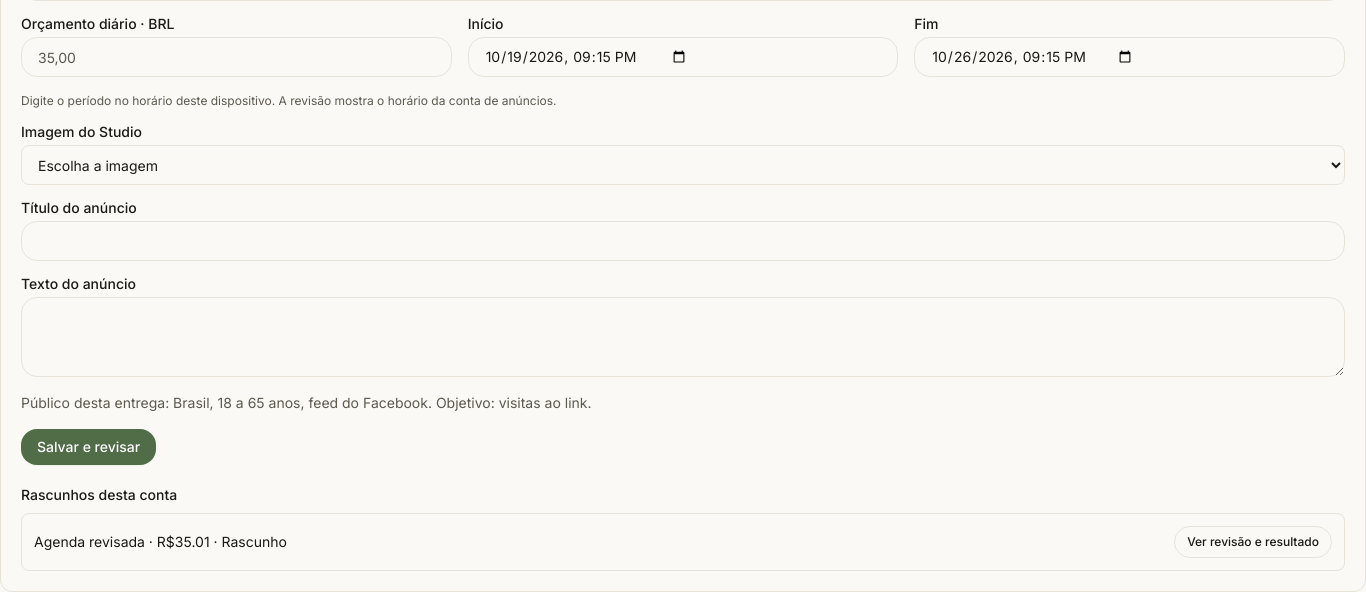
Scenario: anúncios com conexão Meta › aprovação exige consentimento explícito ao orçamento e usa revisão/hash exatos
(page scrolled)
Click the button "Ver revisão e resultado".
click(1253, 542)  # box [1174,526,1332,558]
(page scrolled)
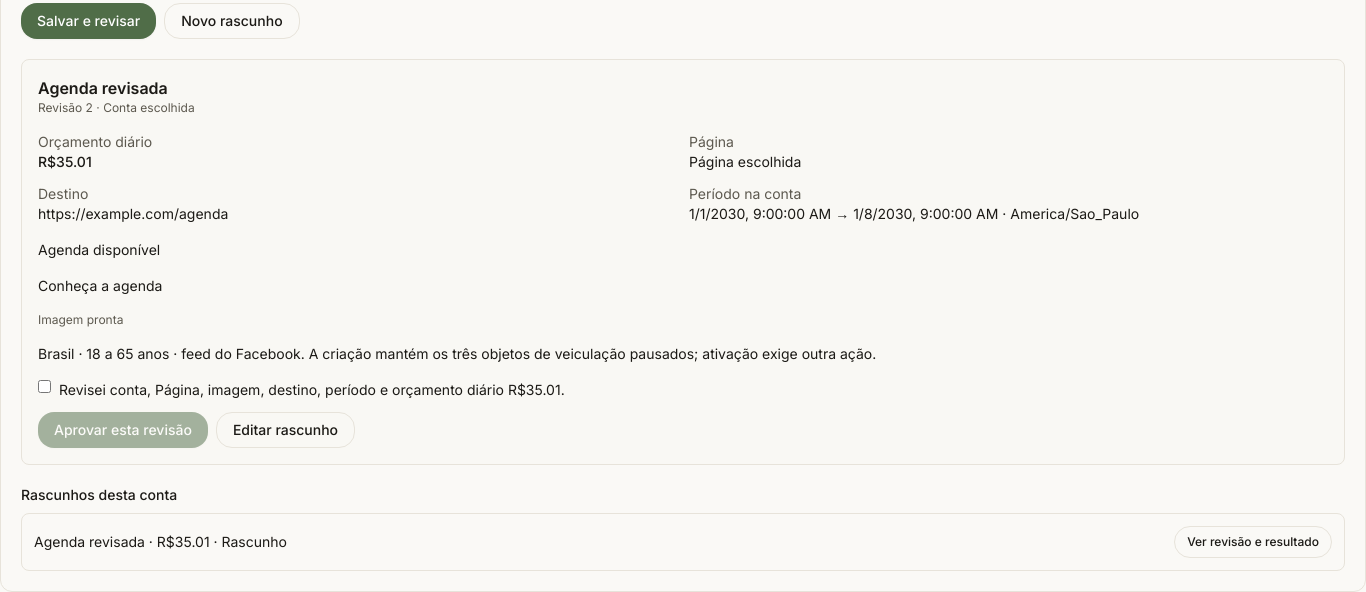
Expected: the button "Aprovar esta revisão" is disabled, [38,412,208,448]
Click the checkbox.
click(44, 386)  # box [38,380,51,393]
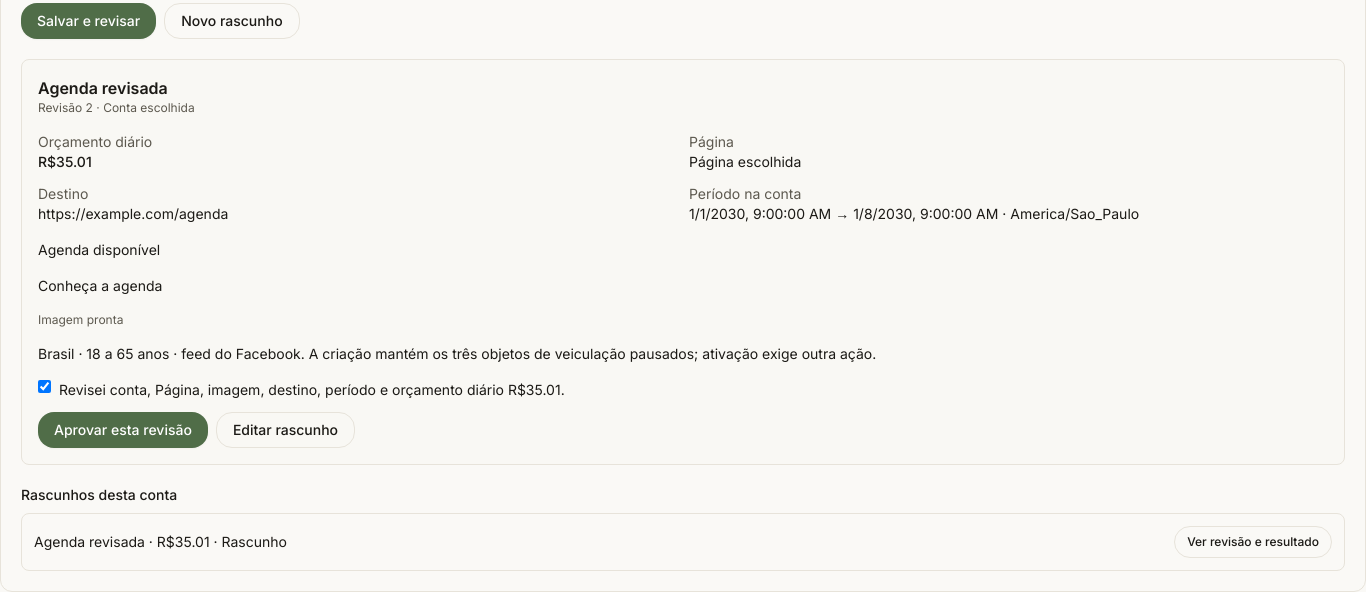
Click the button "Aprovar esta revisão".
click(123, 430)  # box [38,412,208,448]
(page scrolled)
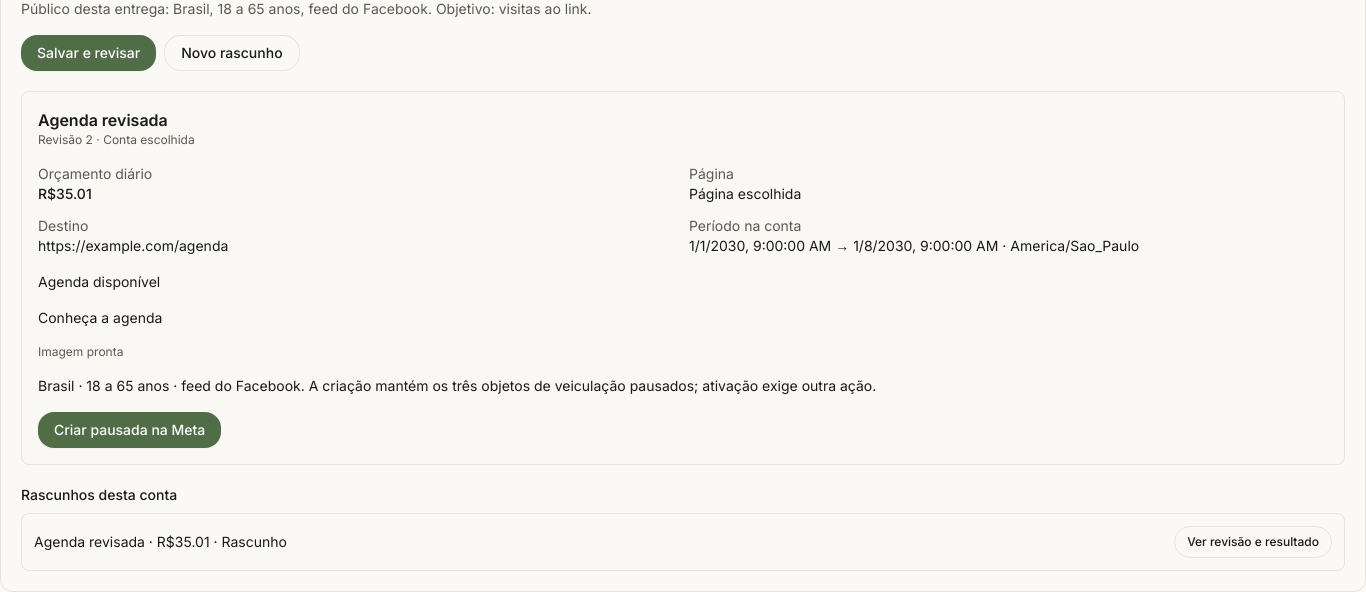
Expected: the button "Criar pausada na Meta" is shown, [38,412,221,448]
